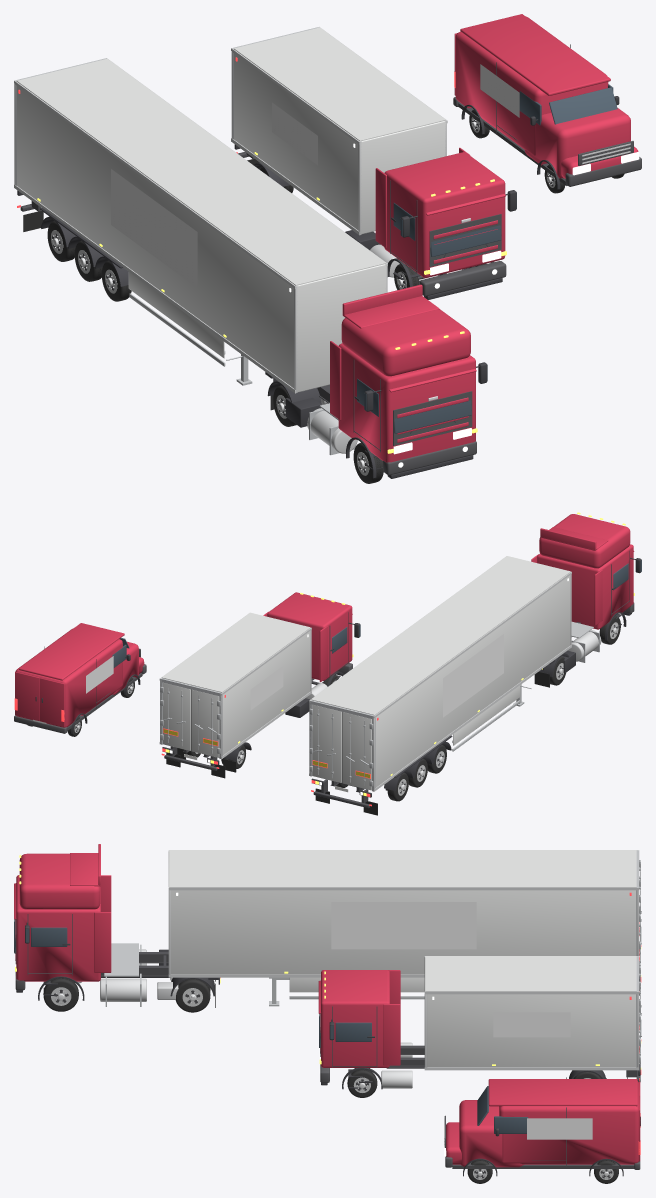
The model's file is vehicles.glb.
3 views of the same model, one above another, from view 1: azimuth 30°, elevation 25°; view 2: azimuth 150°, elevation 25°; view 3: azimuth 270°, elevation 25° (orthographic). The views are drawn at different scales.
Visible parts, largest first — view 1: trailer_body, rigid_body, tractor_cab, van_body, rigid_cab, trailer_decal_L, trailer_chassis, tractor_chassis, rigid_decal_L, van_decal_L, rigid_chassis, wheel_tfl (+3 smaller); view 2: trailer_body, rigid_body, van_body, tractor_cab, rigid_cab, trailer_decal_L, trailer_chassis, tractor_chassis, rigid_chassis, rigid_decal_L, van_decal_L; view 3: trailer_body, rigid_body, van_body, tractor_cab, rigid_cab, trailer_decal_R, tractor_chassis, rigid_decal_R, van_decal_R, trailer_chassis, rigid_chassis, wheel_tfr (+4 smaller).
Boxes of the visible parts, x1,y1,x2,y2 form: trailer_body: [14, 58, 387, 393]; rigid_body: [231, 26, 447, 235]; tractor_cab: [330, 284, 487, 478]; van_body: [453, 14, 641, 189]; rigid_cab: [375, 147, 516, 299]; trailer_decal_L: [111, 169, 197, 287]; trailer_chassis: [40, 208, 252, 385]; tractor_chassis: [265, 372, 357, 455]; rigid_decal_L: [272, 102, 317, 165]; van_decal_L: [480, 64, 519, 117]; rigid_chassis: [253, 162, 424, 279]; wheel_tfl: [353, 442, 383, 483]; trailer_body: [309, 556, 571, 815]; rigid_body: [159, 612, 311, 778]; van_body: [14, 623, 146, 733]; tractor_cab: [531, 512, 641, 640]; rigid_cab: [263, 592, 360, 686]; trailer_decal_L: [443, 634, 503, 717]; trailer_chassis: [384, 684, 531, 790]; tractor_chassis: [534, 621, 601, 687]; rigid_chassis: [177, 681, 327, 772]; rigid_decal_L: [250, 666, 283, 709]; van_decal_L: [86, 656, 113, 693]; trailer_body: [168, 850, 641, 995]; rigid_body: [424, 956, 641, 1081]; van_body: [444, 1077, 640, 1176]; tractor_cab: [14, 844, 111, 1000]; rigid_cab: [318, 970, 400, 1089]; trailer_decal_R: [331, 902, 476, 949]; tractor_chassis: [77, 943, 220, 1007]; rigid_decal_R: [493, 1012, 570, 1037]; van_decal_R: [527, 1118, 592, 1139]; trailer_chassis: [269, 977, 424, 1006]; rigid_chassis: [359, 1042, 606, 1088]; wheel_tfr: [43, 978, 78, 1011].
Size of the model in its own units: 14.92 by 4.31 by 18.14.
